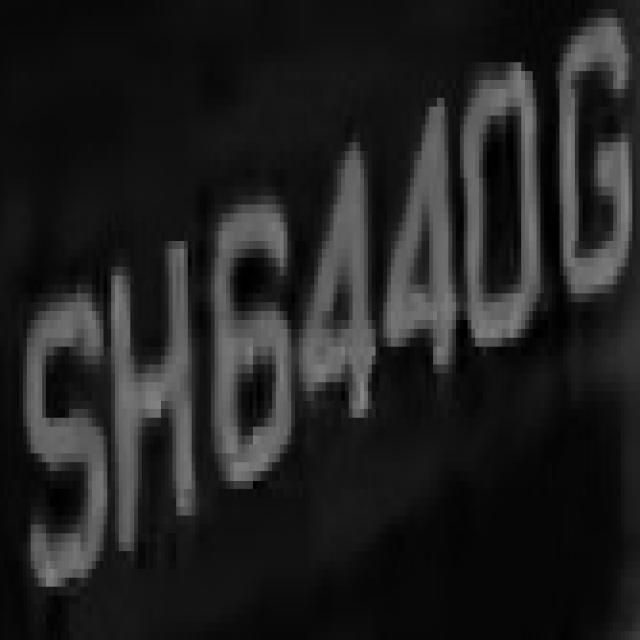0: (452, 36, 544, 382)
4: (276, 134, 387, 454), (379, 71, 460, 400)
6: (211, 142, 291, 507)
G: (544, 0, 640, 338)
H: (103, 213, 211, 569)
S: (15, 258, 100, 613)
